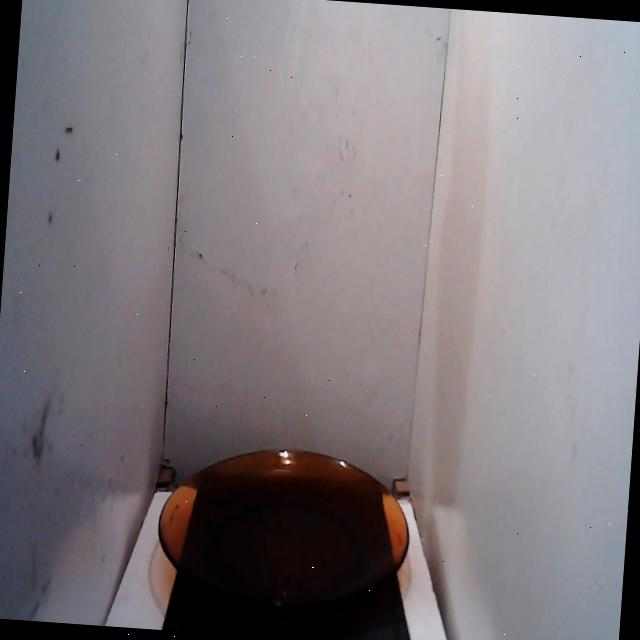vidro: (147, 431, 421, 633)
